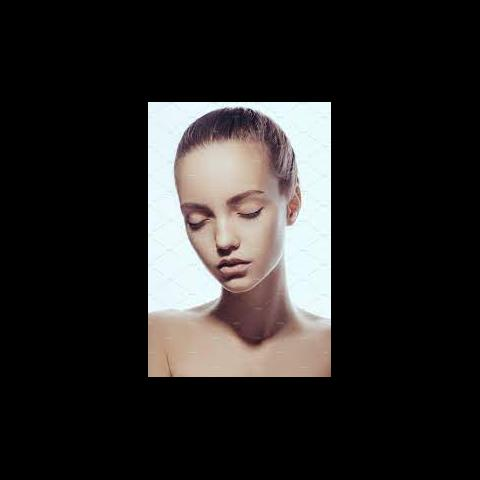closed: (178, 191, 273, 232)
